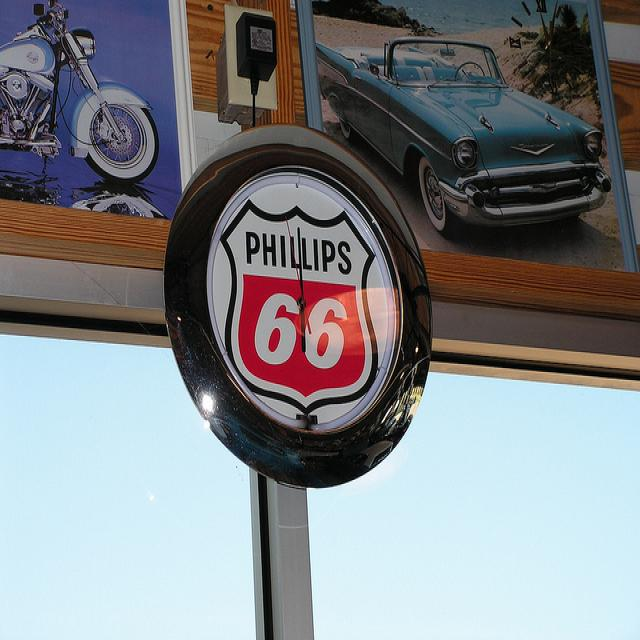motor: (4, 1, 166, 194)
